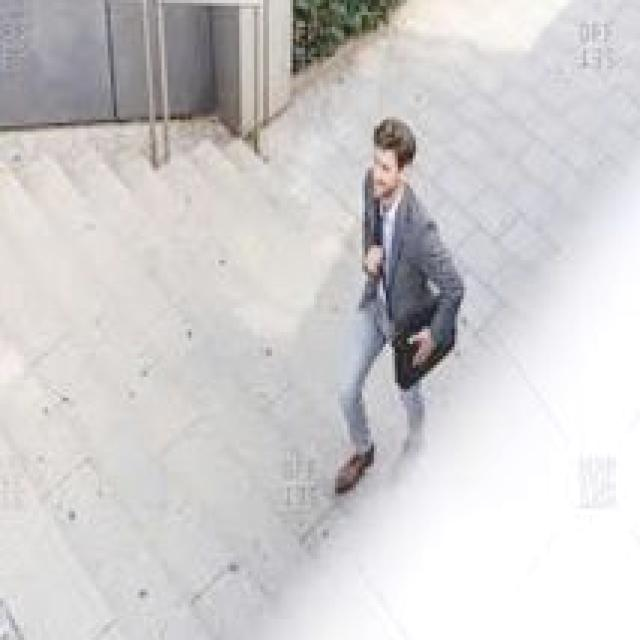upstair: (1, 202, 378, 552)
